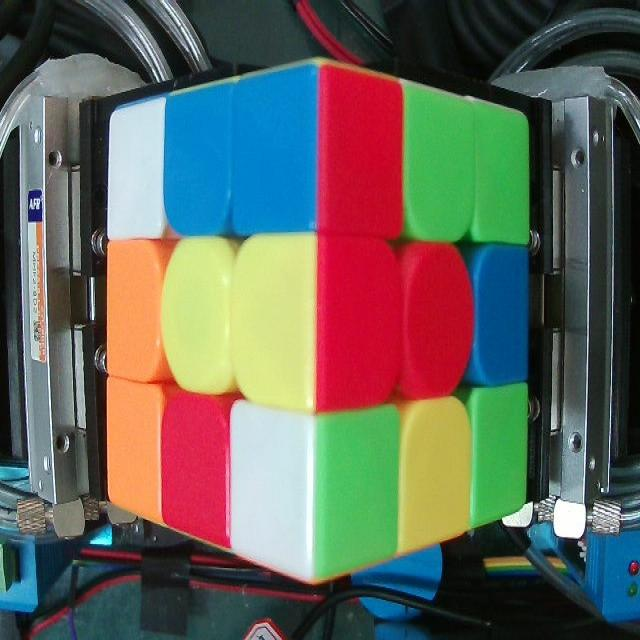b: (234, 83, 318, 230), (166, 99, 227, 228), (478, 251, 528, 383)
g: (319, 419, 391, 567), (407, 87, 472, 235), (479, 105, 531, 241), (476, 396, 526, 512)
o: (106, 247, 156, 376), (108, 380, 154, 514)
r: (330, 74, 394, 234), (322, 249, 389, 395), (407, 255, 465, 399), (165, 400, 224, 540)
w: (232, 406, 308, 571), (110, 113, 158, 235)
y: (240, 250, 308, 396), (400, 406, 468, 548), (168, 248, 228, 386)
